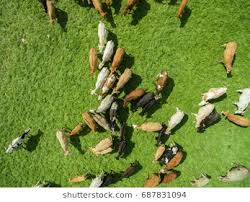sheep: (54, 130, 80, 161), (220, 166, 250, 188), (164, 111, 188, 137), (93, 65, 110, 96), (220, 111, 250, 128), (197, 111, 220, 133), (223, 40, 237, 76), (193, 100, 213, 125), (91, 109, 110, 135), (116, 161, 143, 179), (234, 84, 250, 113), (41, 1, 62, 23), (199, 85, 226, 102), (10, 128, 28, 152), (85, 112, 102, 137), (93, 21, 107, 51), (133, 119, 161, 132), (100, 95, 115, 119), (155, 169, 177, 185), (116, 70, 130, 95), (79, 173, 102, 188), (190, 172, 210, 189), (169, 150, 184, 171), (98, 174, 119, 189), (96, 139, 114, 156), (150, 143, 166, 161), (72, 123, 88, 141), (101, 76, 115, 96), (103, 43, 114, 68), (112, 48, 123, 72), (162, 146, 178, 162), (176, 1, 186, 25), (89, 47, 98, 70)
